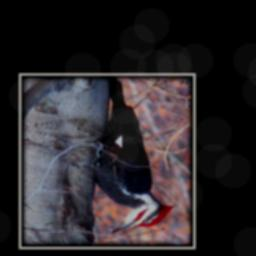Woodpecker: (82, 76, 175, 233)
